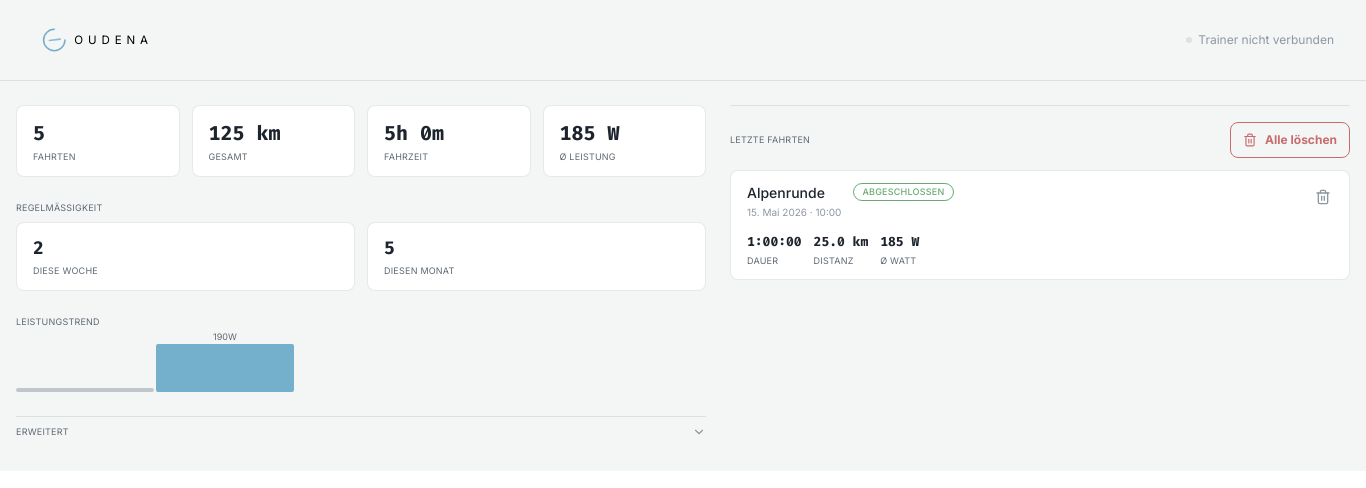
Test: AnalyticsScreen › opens the existing ride detail from latest rides
Click the button with test id "ride-card".
click(786, 192)  # box [731,171,1301,279]
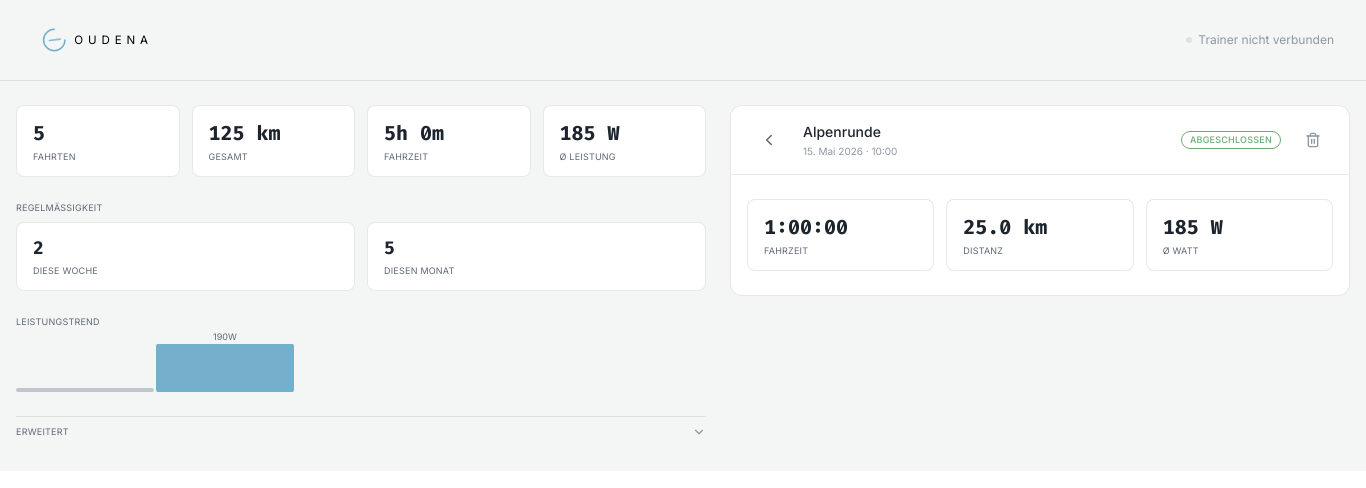
Expected: the element with test id "ride-detail" is shown, [730,105,1350,296]
